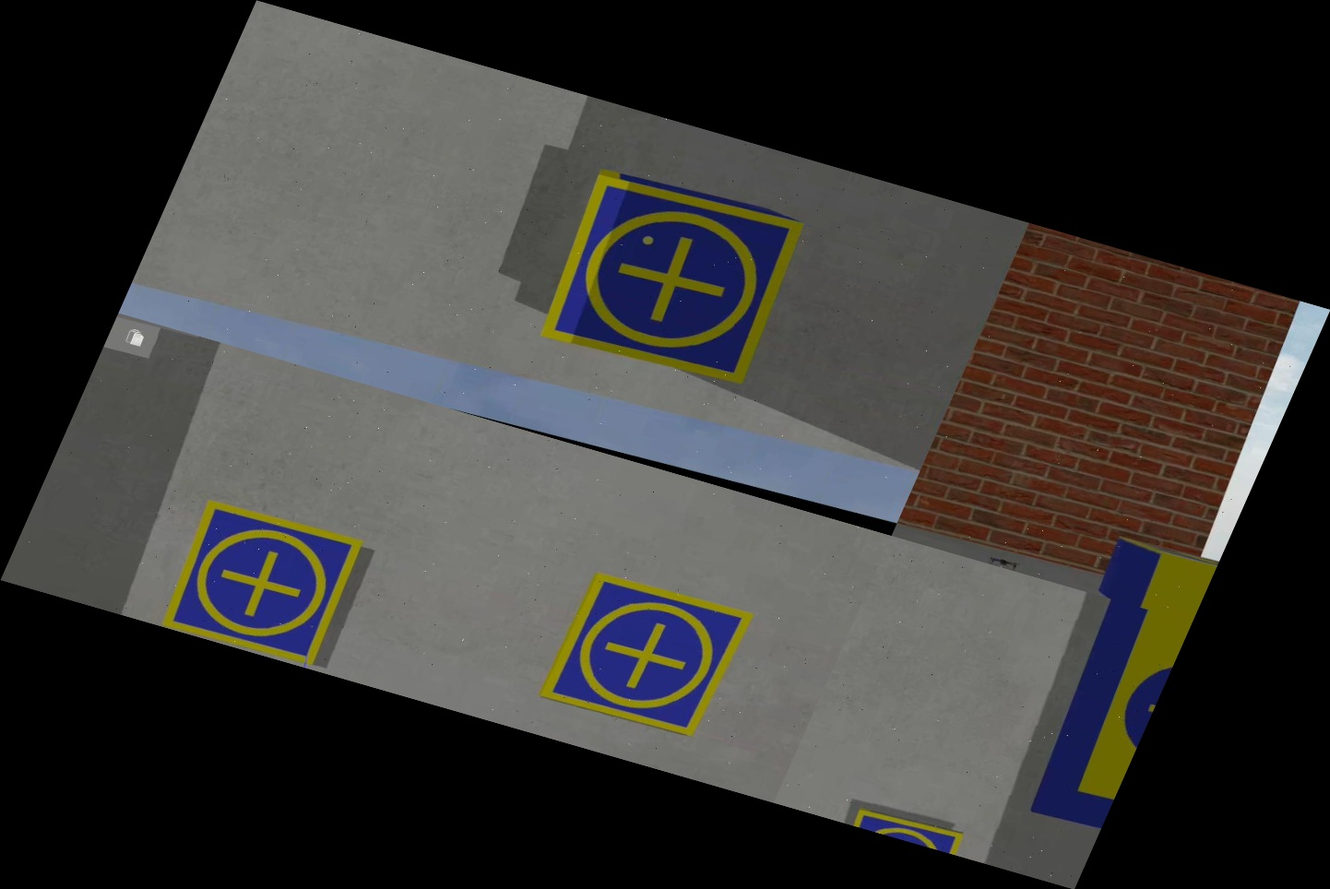large_base: (1017, 599, 1191, 833)
small_base: (527, 167, 809, 396), (532, 566, 762, 748), (151, 493, 372, 670), (850, 802, 971, 857)
